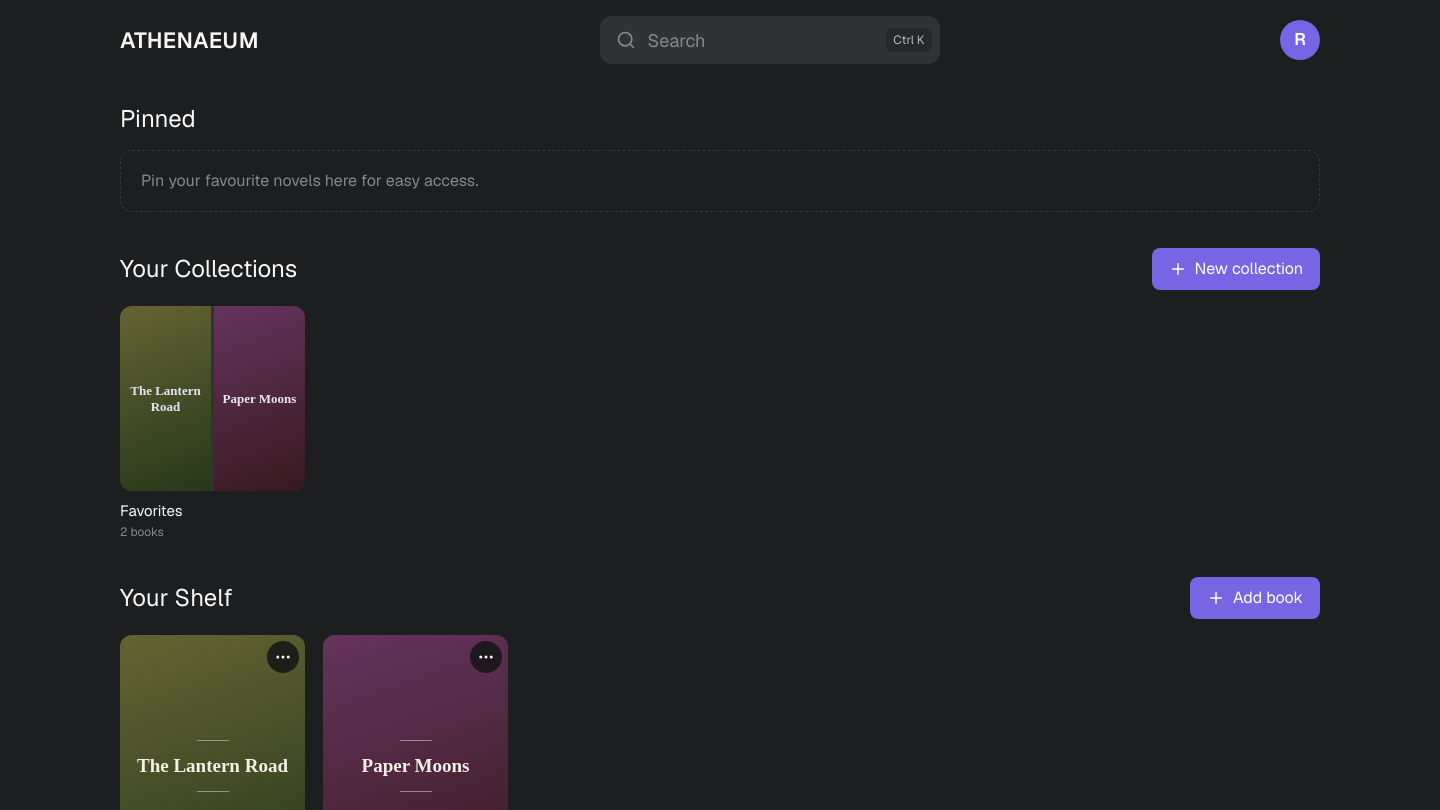
it: deleting a book › gives each book an options menu with Delete in it
Check: the button named "Options for Paper Moons" is shown, box [470,641,502,673]
Click the button named "Options for The Lantern Road": (283,657) [267,641,299,673]
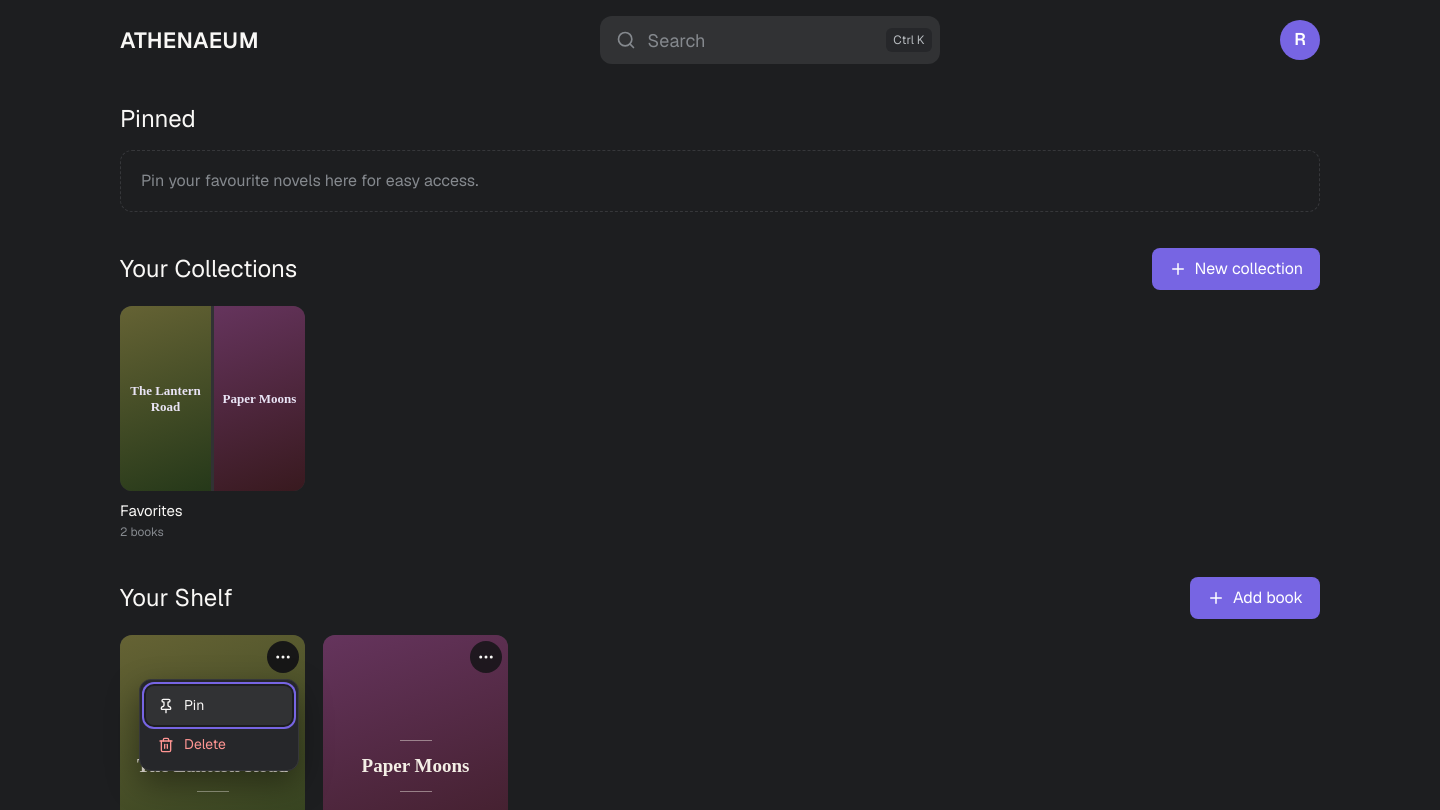
Check: the menu item "Delete" is shown, box [146,725,292,764]
